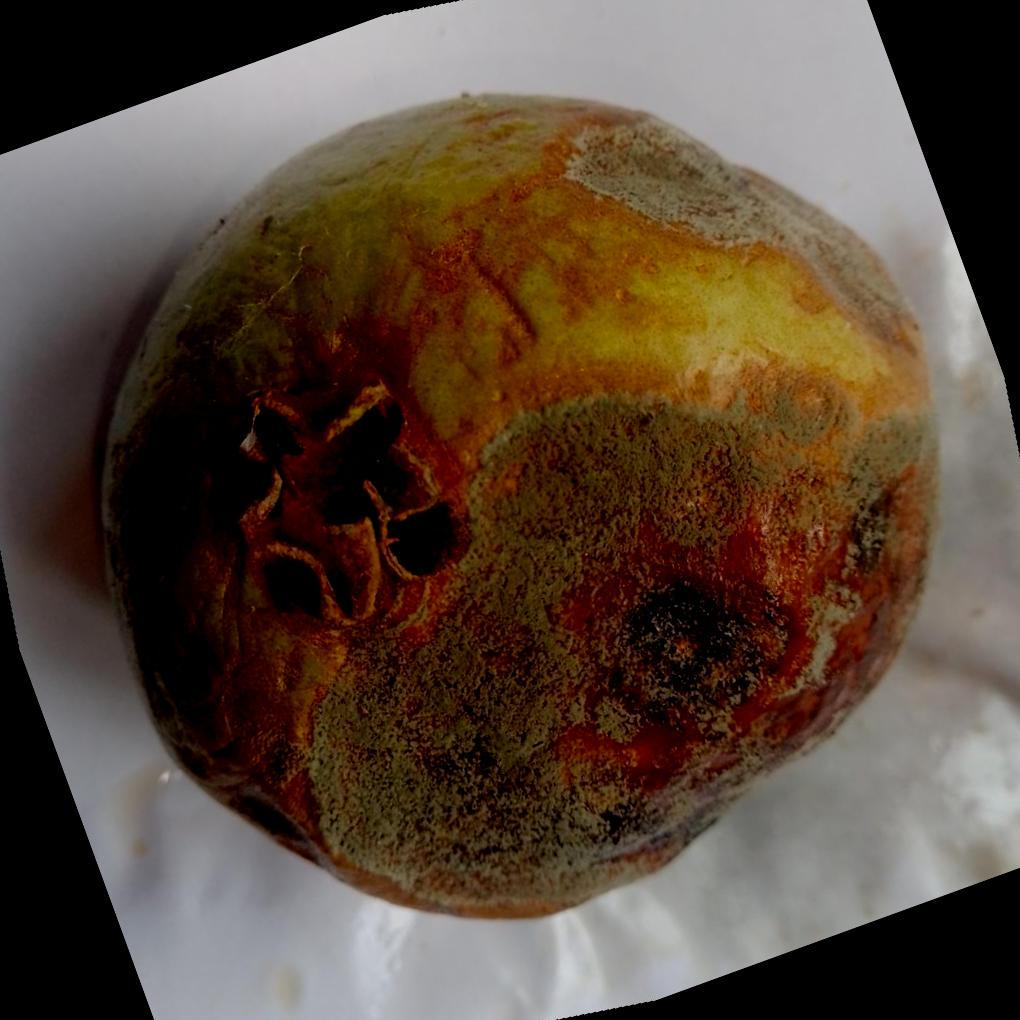FreshOrange: (93, 87, 939, 920)
